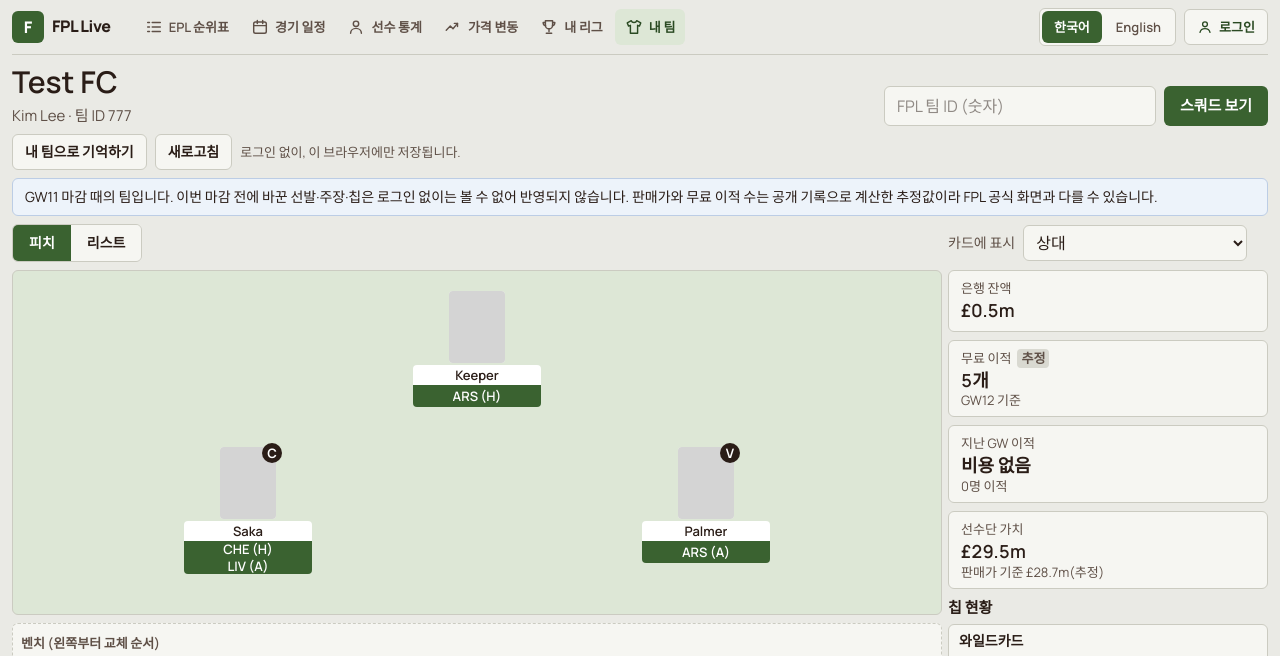
Test: squad page › has a list view with every value at once, selling price marked as an estimate
Expected: the heading "Test FC" is shown, 12,63 -> 132,100
Click the button "리스트": [106, 243] box 71,225 -> 141,261
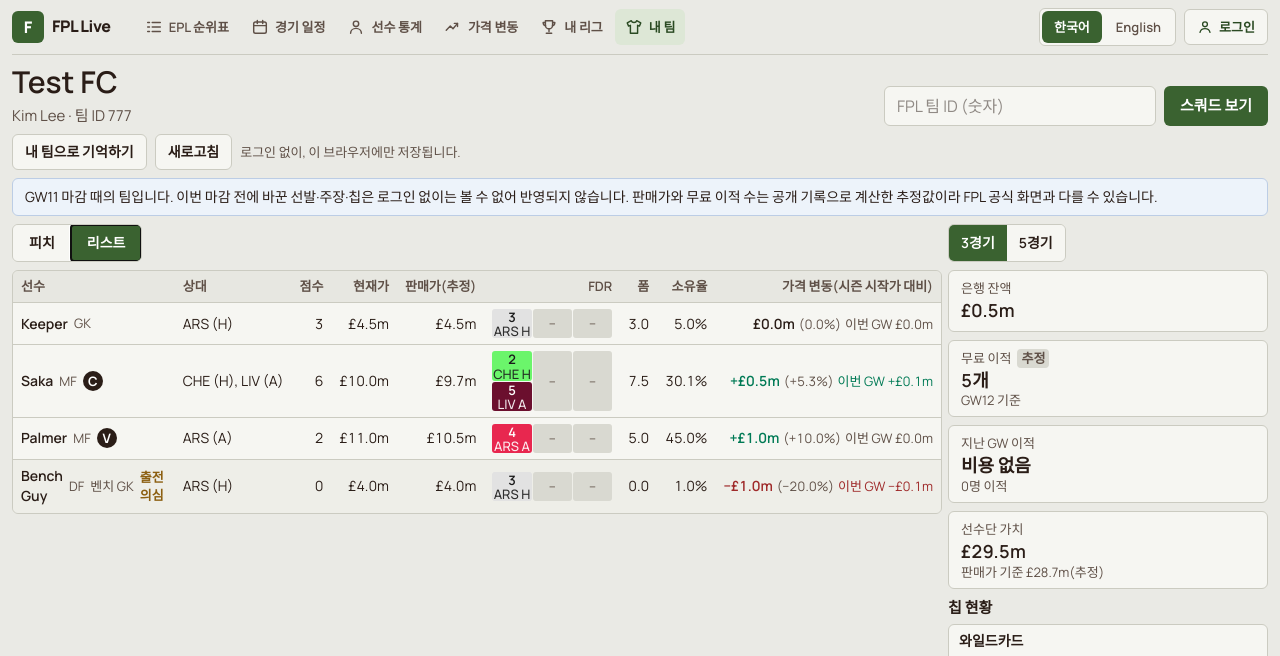
Result: the column heading "판매가(추정)" is shown at 397,271 -> 484,303
Result: the text "Saka" shows "£10.0m" at 340,371 -> 389,390
Result: the text "Saka" shows "£9.7m" at 436,371 -> 476,390
